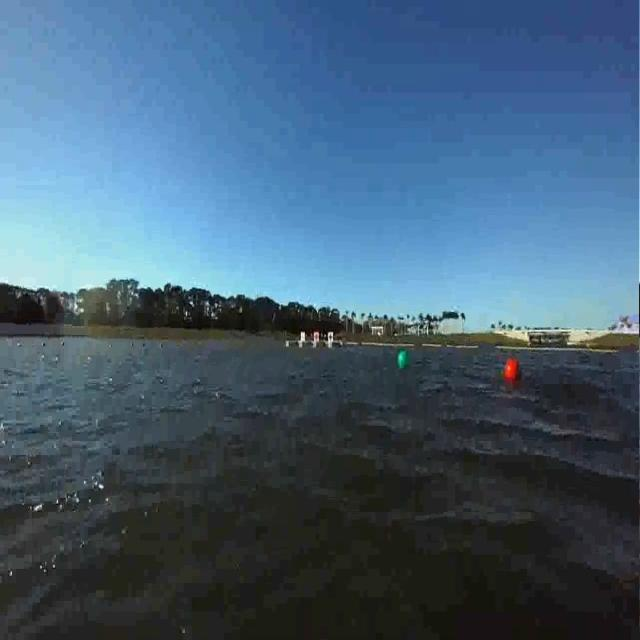green-buoy: (398, 350, 412, 370)
red-buoy: (503, 358, 521, 388)
